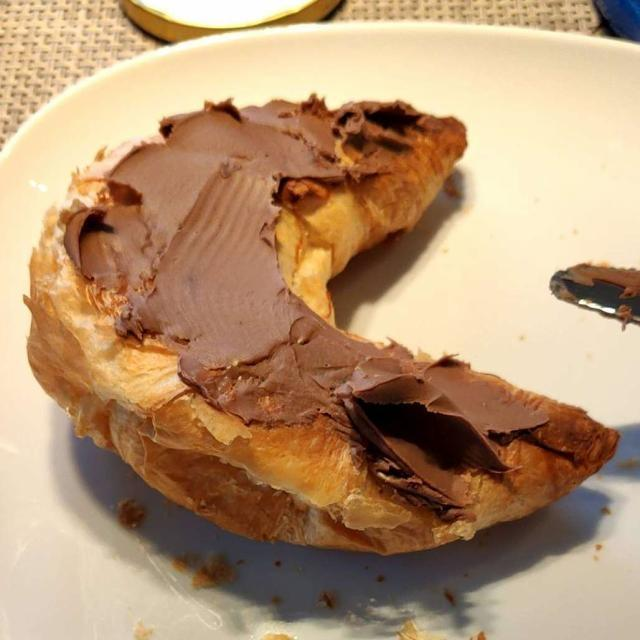croissant: (37, 101, 610, 549)
nutella: (62, 91, 547, 517)
